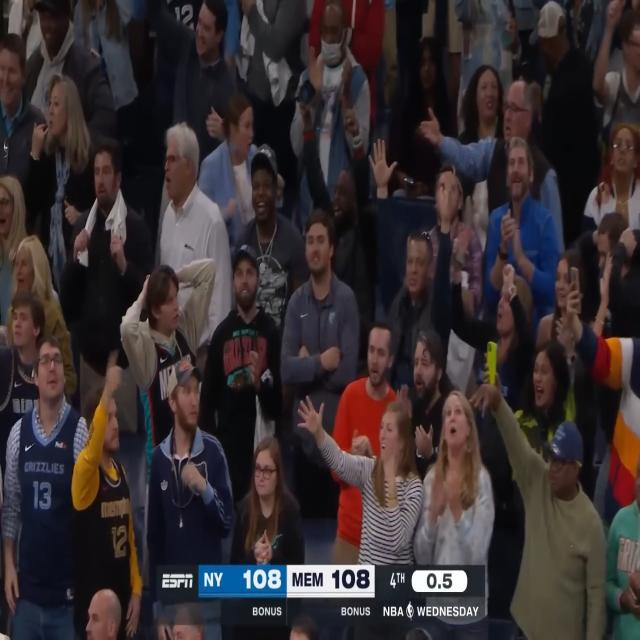Overlay: (159, 564, 486, 627)
Scoreboard: (199, 564, 486, 598)
